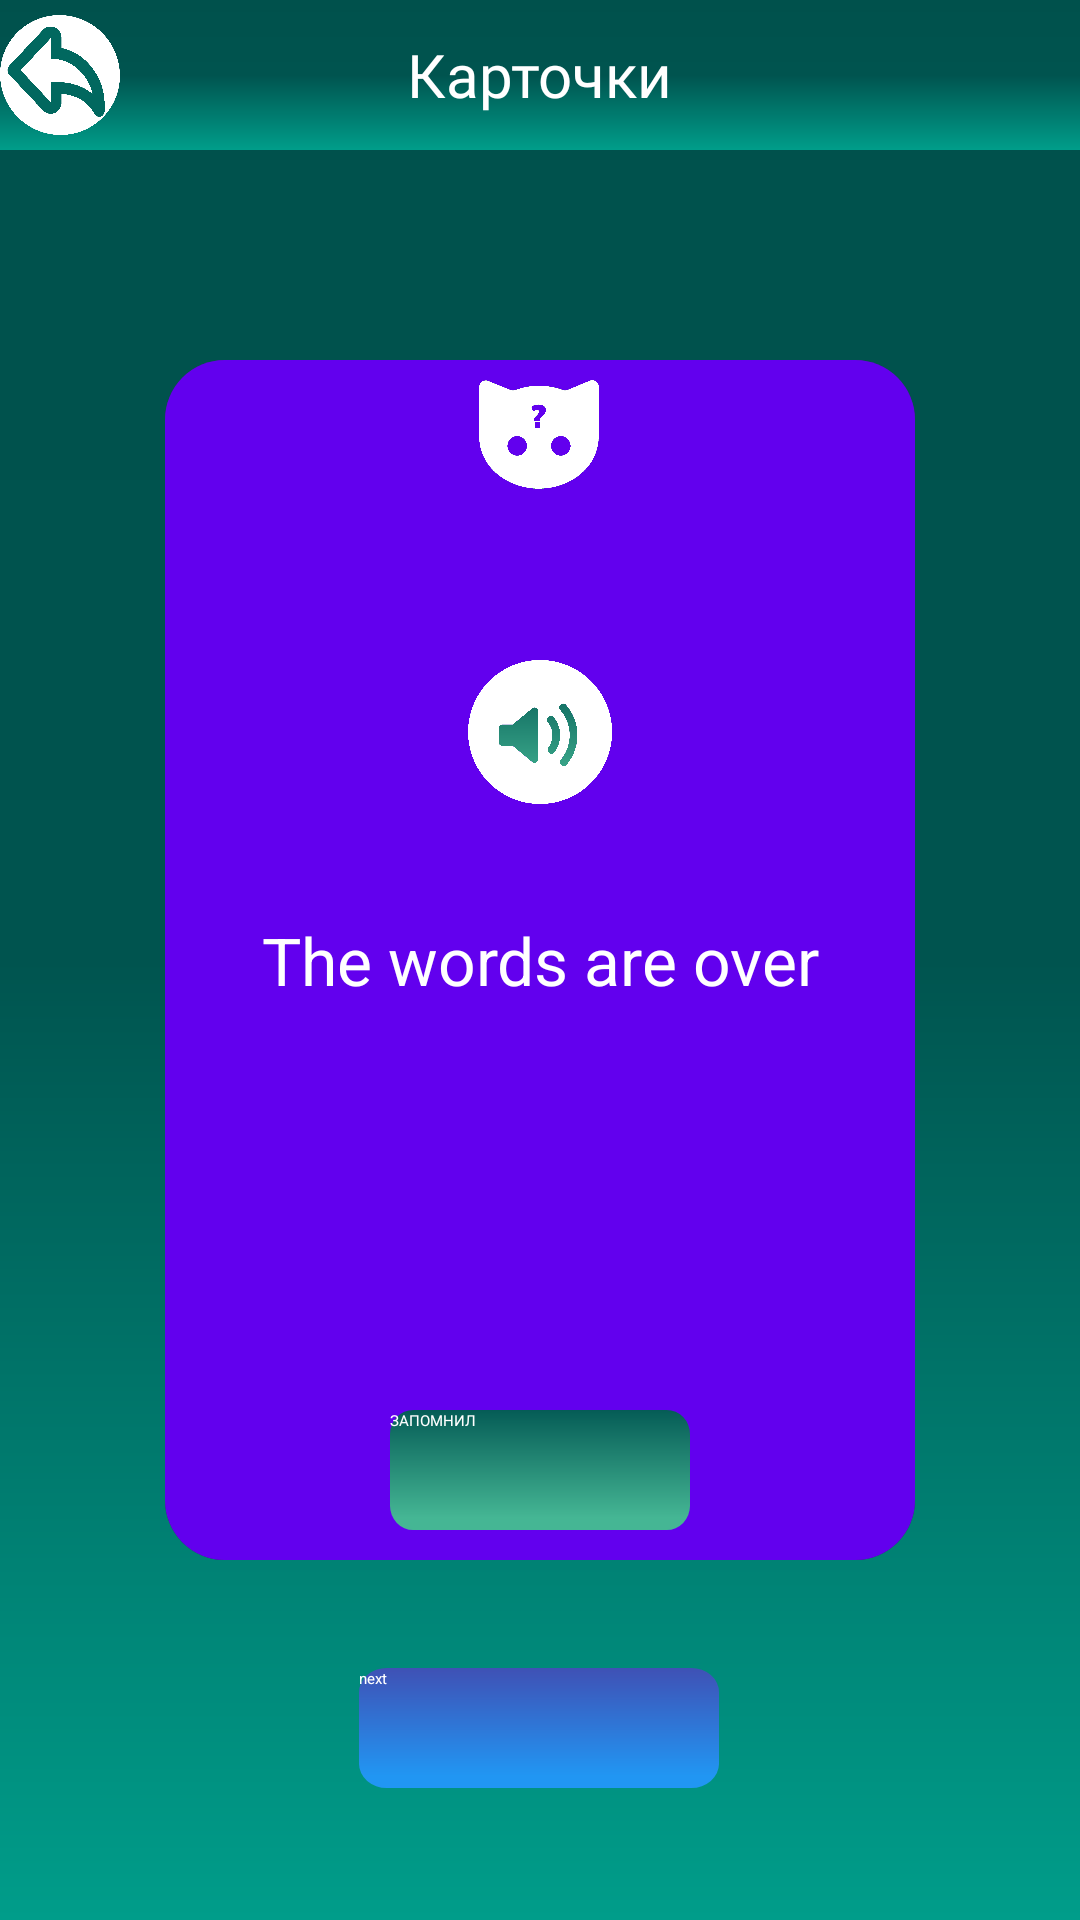

Point at icon controls on the screen. Image size 1080x1920, points as (x=x, y=y).
back: (x=60, y=75)
some cat: (x=539, y=434)
